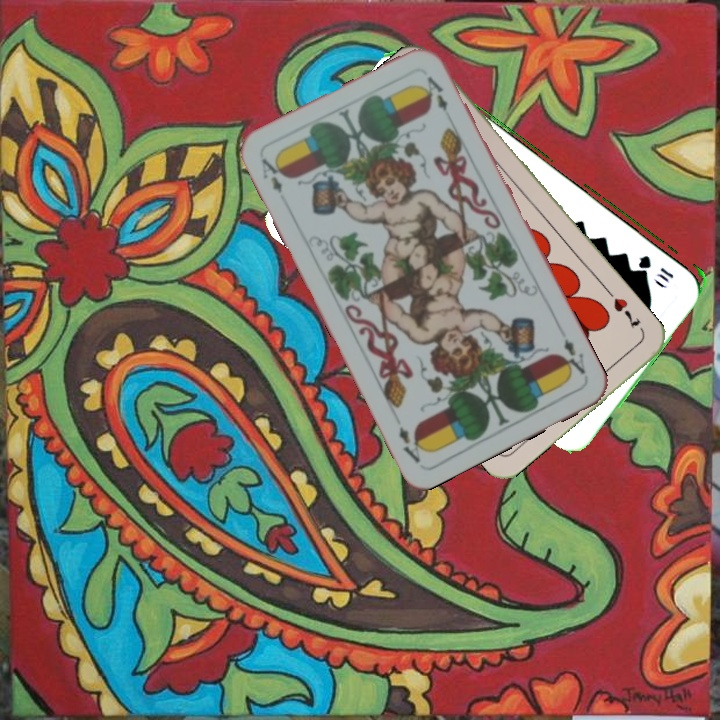EA: (557, 335, 588, 380), (257, 154, 288, 196)
G10: (635, 250, 677, 285)
H7: (609, 293, 643, 331)
